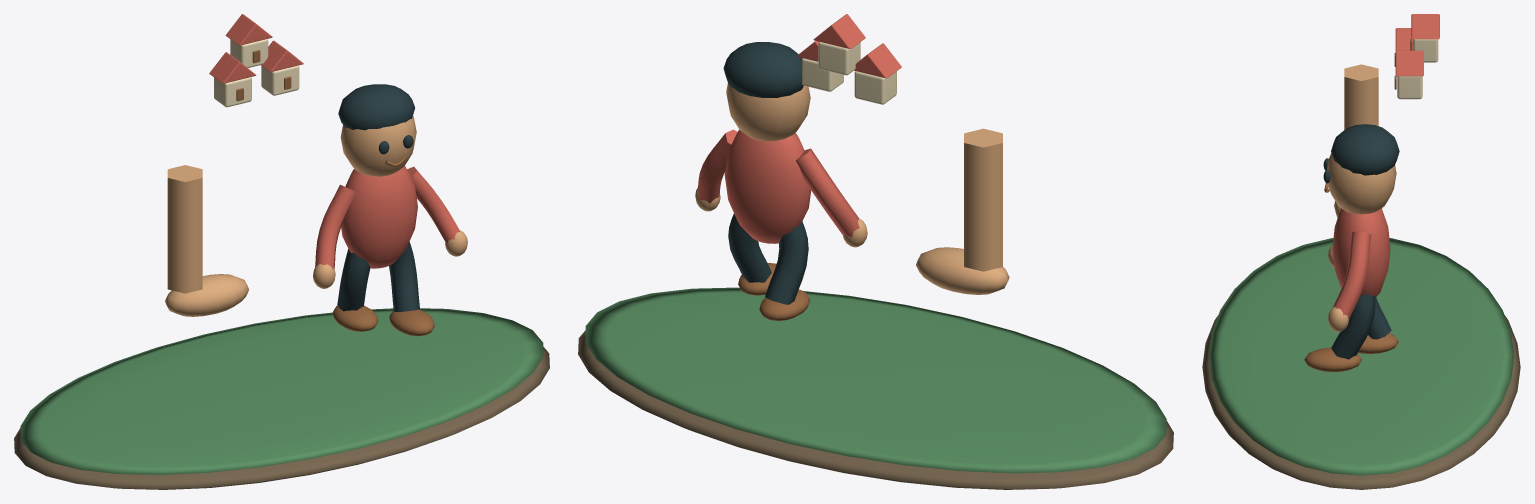
Rendered from complete-third-village-children.glb.
3 renders of one model, left to right at view 1: azimuth 30°, elevation 25°; view 2: azimuth 150°, elevation 25°; view 3: azimuth 270°, elevation 25°, orthographic. The views are drawn at different scales.
Visible parts, largest first — view 1: complete-third-village-children_surface_01, complete-third-village-children_surface_05, complete-third-village-children_surface_02, complete-third-village-children_surface_00, complete-third-village-children_surface_03, complete-third-village-children_surface_06, complete-third-village-children_surface_04; view 2: complete-third-village-children_surface_01, complete-third-village-children_surface_05, complete-third-village-children_surface_02, complete-third-village-children_surface_00, complete-third-village-children_surface_03, complete-third-village-children_surface_06, complete-third-village-children_surface_04; view 3: complete-third-village-children_surface_01, complete-third-village-children_surface_05, complete-third-village-children_surface_00, complete-third-village-children_surface_02, complete-third-village-children_surface_03, complete-third-village-children_surface_04, complete-third-village-children_surface_06.
Boxes of the visible parts, box(x1,y1,x2,y2) form: complete-third-village-children_surface_01: box(20, 308, 543, 474); complete-third-village-children_surface_05: box(209, 14, 460, 268); complete-third-village-children_surface_02: box(165, 116, 467, 316); complete-third-village-children_surface_00: box(14, 347, 549, 489); complete-third-village-children_surface_03: box(337, 84, 419, 311); complete-third-village-children_surface_06: box(214, 39, 299, 107); complete-third-village-children_surface_04: box(236, 50, 434, 336); complete-third-village-children_surface_01: box(585, 287, 1166, 473); complete-third-village-children_surface_05: box(697, 14, 901, 243); complete-third-village-children_surface_02: box(695, 83, 1009, 294); complete-third-village-children_surface_00: box(578, 331, 1173, 489); complete-third-village-children_surface_03: box(723, 42, 808, 304); complete-third-village-children_surface_06: box(802, 41, 896, 104); complete-third-village-children_surface_04: box(738, 263, 809, 320); complete-third-village-children_surface_01: box(1208, 238, 1514, 475); complete-third-village-children_surface_05: box(1332, 14, 1439, 319); complete-third-village-children_surface_00: box(1202, 315, 1520, 489); complete-third-village-children_surface_02: box(1327, 64, 1396, 331); complete-third-village-children_surface_03: box(1323, 124, 1399, 359); complete-third-village-children_surface_04: box(1304, 38, 1412, 371); complete-third-village-children_surface_06: box(1397, 39, 1438, 99).
Size of the model in its own units: 4.56 by 3.19 by 2.5.
